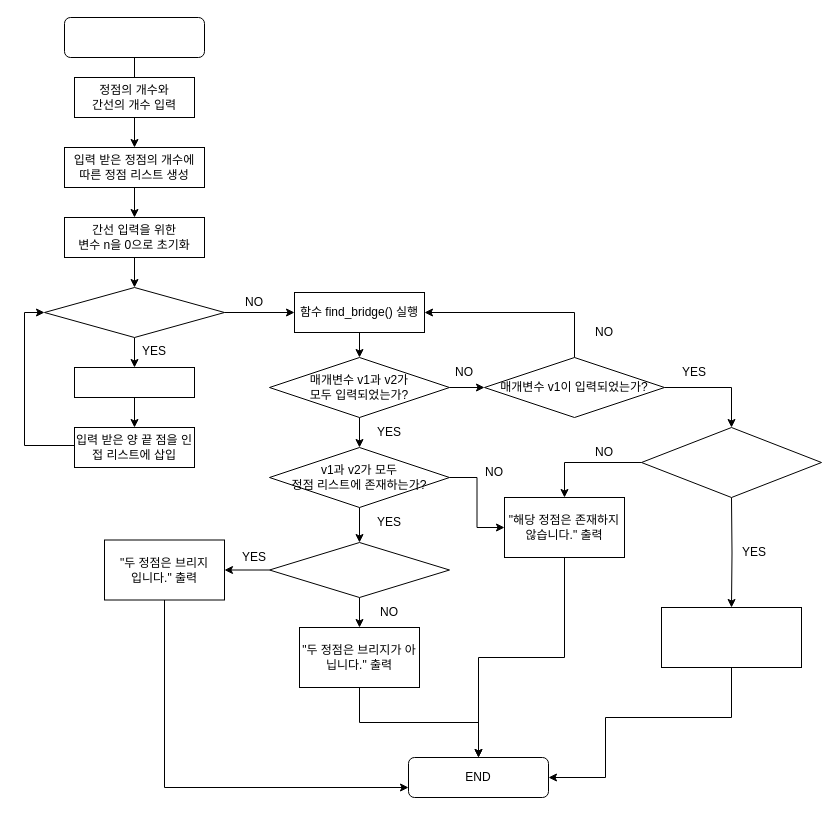
The diagram is 839 pixels wide and 815 high, and some of its shapes have lost their labels. Here are the shapes that lost their labels. From the top down, the centre of each, then its label:
(x=134, y=37): START
(x=134, y=312): n이 간선의 수보다 작은가?
(x=134, y=382): 간선의 양 끝 점 입력
(x=731, y=462): v1이 정점 리스트에 존재하는가?
(x=359, y=570): v1과 v2가 브리지인가?
(x=731, y=637): "v1의 브리지는 ~와 연결되어 있습니다."으로 인접 정점 정보 출력
